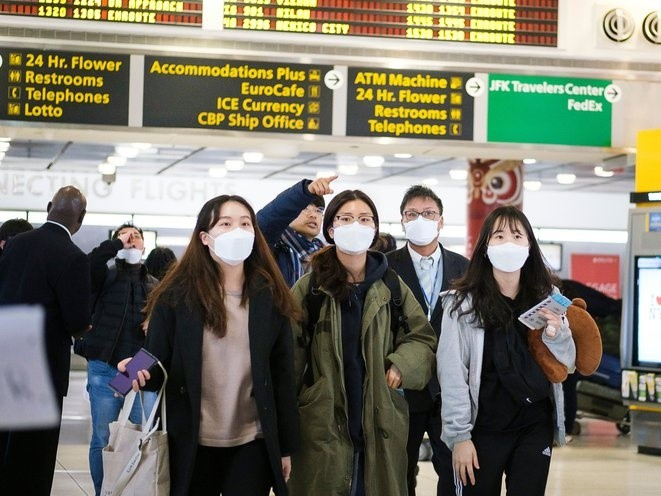face_no_mask: (294, 199, 327, 241)
face_with_mask: (195, 195, 259, 269), (324, 186, 380, 258), (479, 203, 537, 272), (397, 182, 445, 251), (114, 224, 147, 264)
